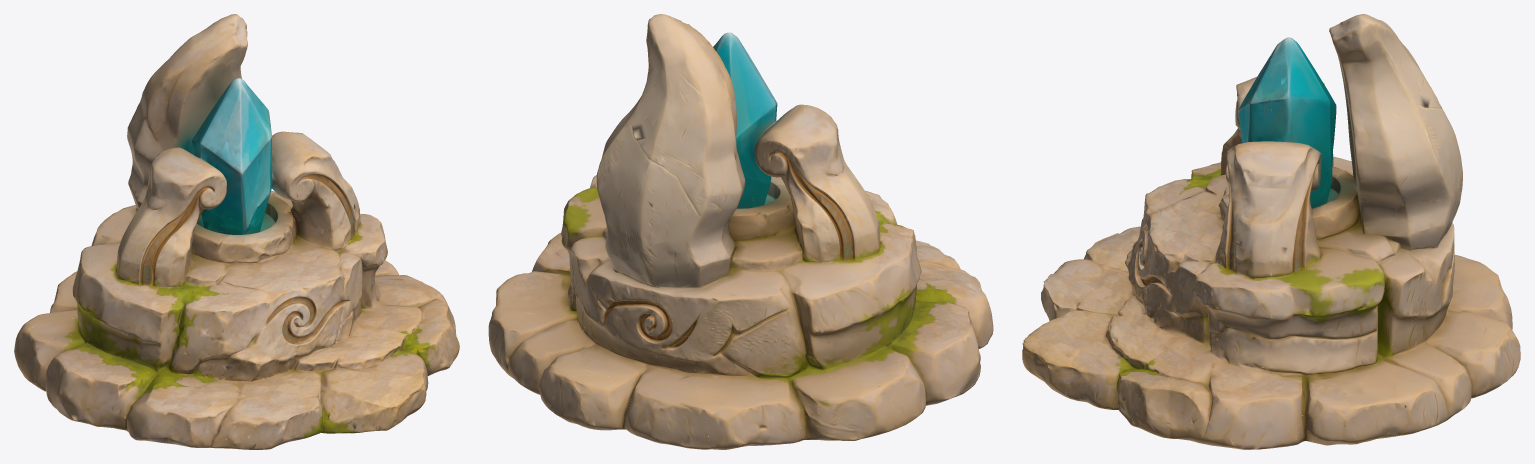
File: altar-optimized.glb
3 renders of one model, left to right at view 1: azimuth 30°, elevation 25°; view 2: azimuth 150°, elevation 25°; view 3: azimuth 270°, elevation 25°, orthographic. The views are drawn at different scales.
Visible parts, largest first — view 1: Hi3D_WindCrystalAltar; view 2: Hi3D_WindCrystalAltar; view 3: Hi3D_WindCrystalAltar.
Part boxes in pixels (x1=…): Hi3D_WindCrystalAltar: x1=14, y1=14, x2=459, y2=449; Hi3D_WindCrystalAltar: x1=488, y1=14, x2=993, y2=449; Hi3D_WindCrystalAltar: x1=1022, y1=14, x2=1520, y2=449.
Bounding box in the file's own units: 2.81 × 2.2 × 2.8.
Materials: 1 (1 with a texture image).
